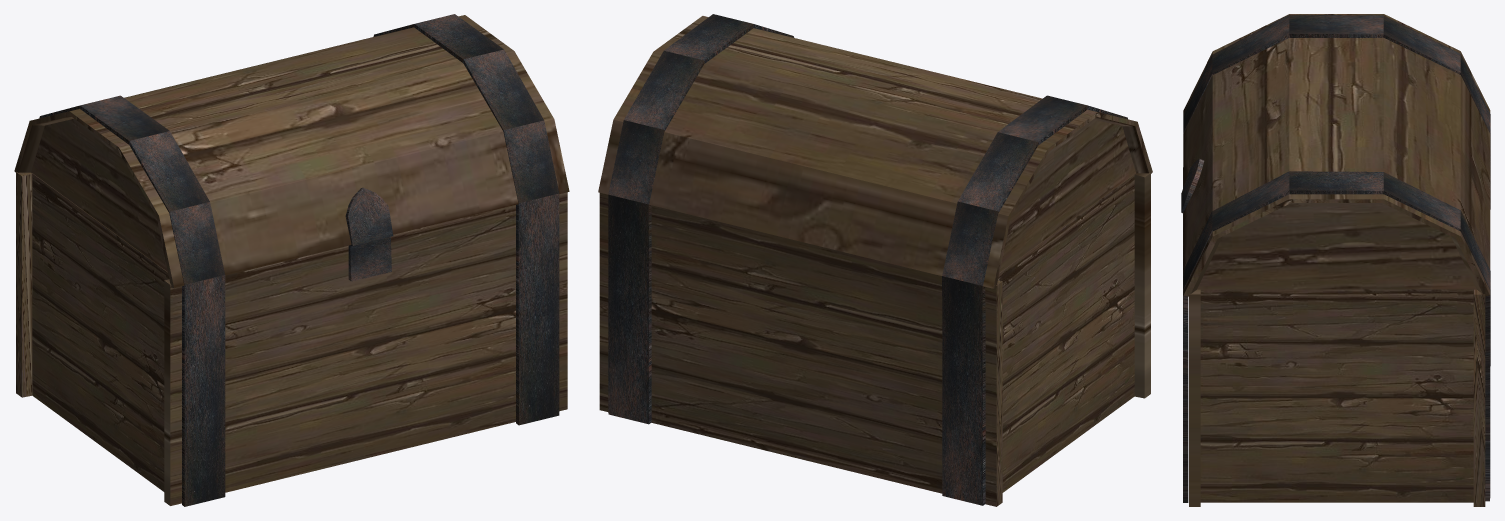
The model's file is TreasureBox.fbx.
3 renders of one model, left to right at view 1: azimuth 30°, elevation 25°; view 2: azimuth 150°, elevation 25°; view 3: azimuth 270°, elevation 25°, orthographic. The views are drawn at different scales.
Parts seen in each view (by area): view 1: pCube1, pCylinder1, pasted__pPlane1, pasted__pasted__pPlane1, pPlane1; view 2: pCube1, pCylinder1, pasted__pPlane1, pasted__pasted__pPlane1; view 3: pCylinder1, pCube1, pasted__pPlane1, pasted__pasted__pPlane1, pPlane1.
Boxes of the visible parts, x1=… form: pCube1: x1=16, y1=172, x2=567, y2=505; pCylinder1: x1=14, y1=15, x2=569, y2=288; pasted__pPlane1: x1=373, y1=14, x2=559, y2=425; pasted__pasted__pPlane1: x1=39, y1=95, x2=225, y2=506; pPlane1: x1=345, y1=187, x2=393, y2=281; pCube1: x1=599, y1=173, x2=1150, y2=506; pCylinder1: x1=598, y1=16, x2=1152, y2=288; pasted__pPlane1: x1=608, y1=14, x2=794, y2=424; pasted__pasted__pPlane1: x1=942, y1=95, x2=1127, y2=505; pCylinder1: x1=1183, y1=14, x2=1490, y2=296; pCube1: x1=1189, y1=289, x2=1485, y2=506; pasted__pPlane1: x1=1183, y1=171, x2=1490, y2=502; pasted__pasted__pPlane1: x1=1183, y1=15, x2=1490, y2=323; pPlane1: x1=1181, y1=159, x2=1204, y2=213.
Size of the model in its own units: 9.78 by 7.66 by 6.87.
Materials: 2 (2 with a texture image).
